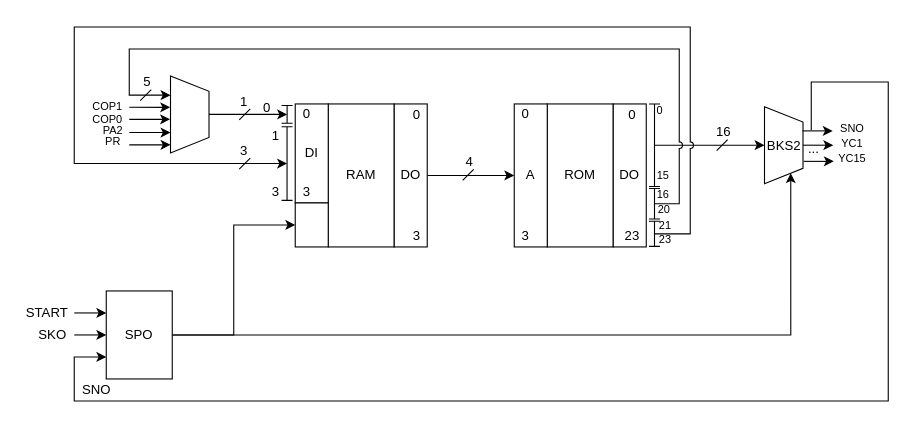
The diagram is 916 pixels wide and 429 high, and some of its shapes have lost their labels. Each missing label, with the centre of its shape:
"BKS1" goes at (x=189, y=114).
"CE" goes at (x=311, y=224).
